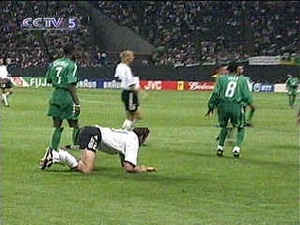falling: (38, 116, 162, 178)
